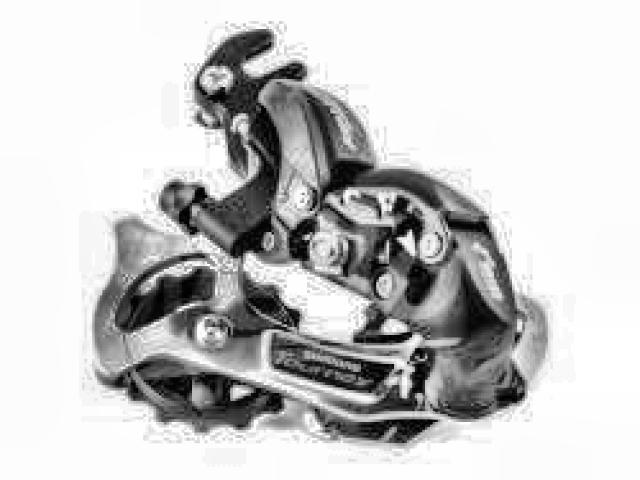rear_derailleur: (86, 27, 553, 456)
